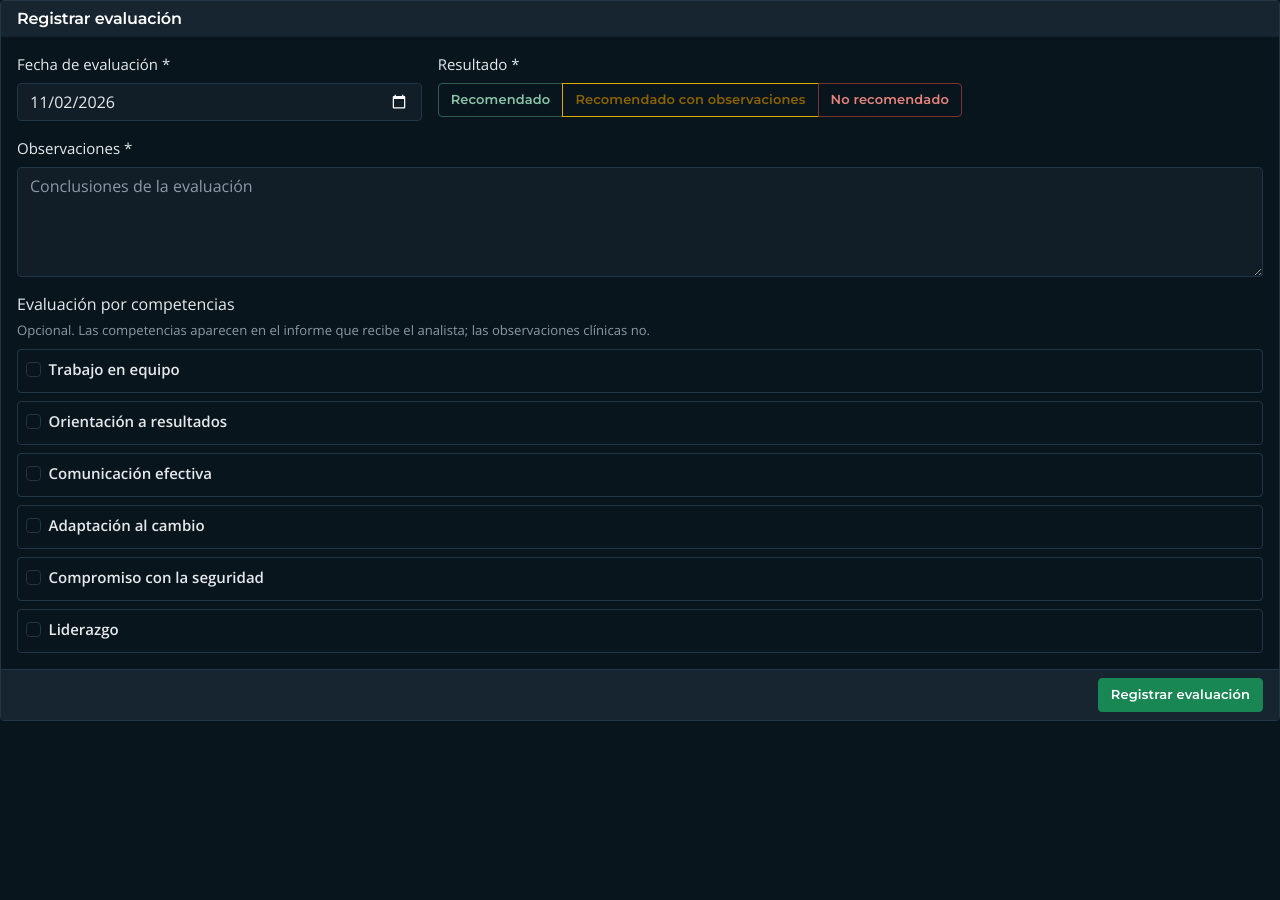
Scenario: FormularioEvaluacion › rechaza observaciones demasiado cortas
Click the radio button labelled "Recomendado" at [444, 90], box 438,83 -> 451,96
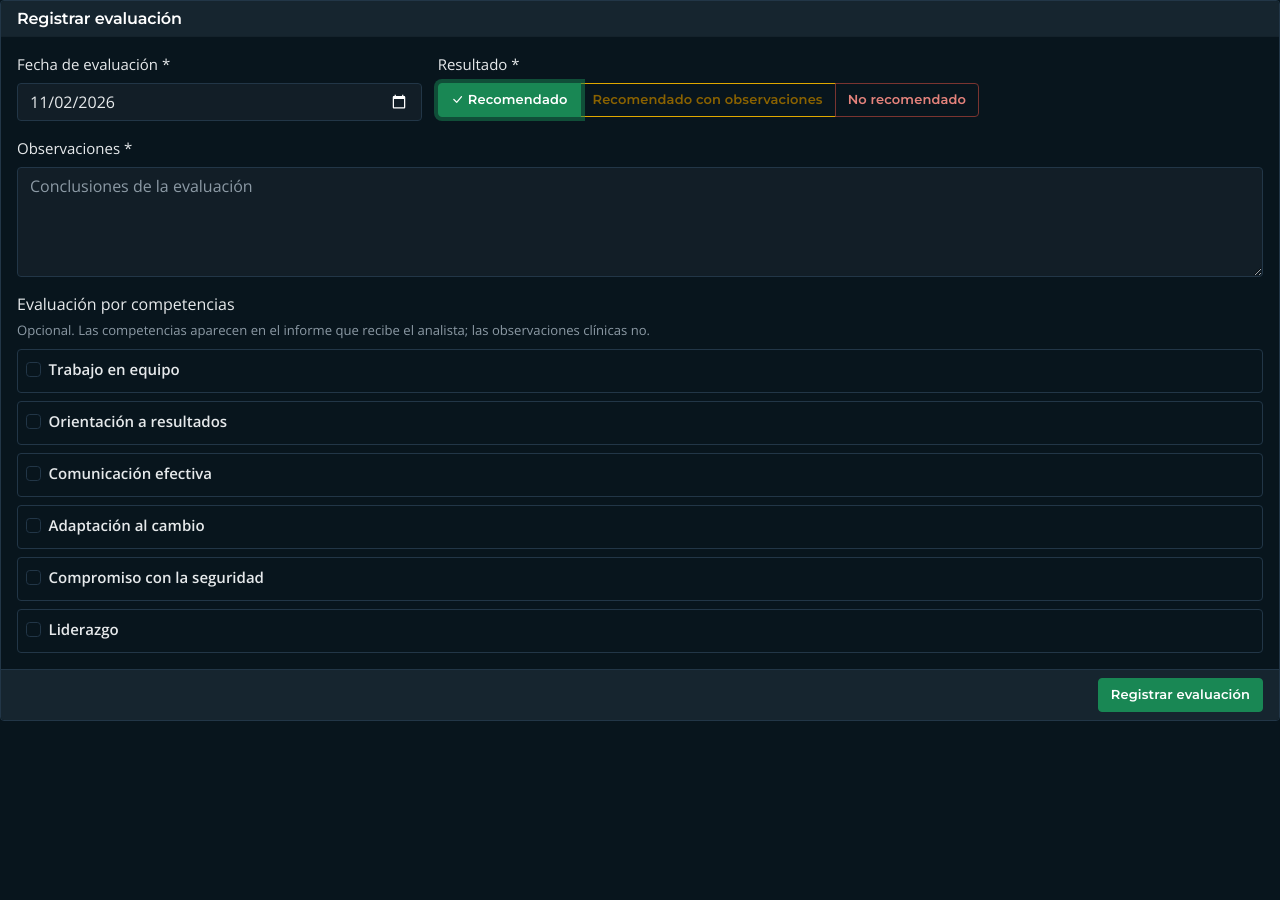
Type "ok" into the text box labelled "Observaciones *" at [640, 222], box 17,167 -> 1263,277
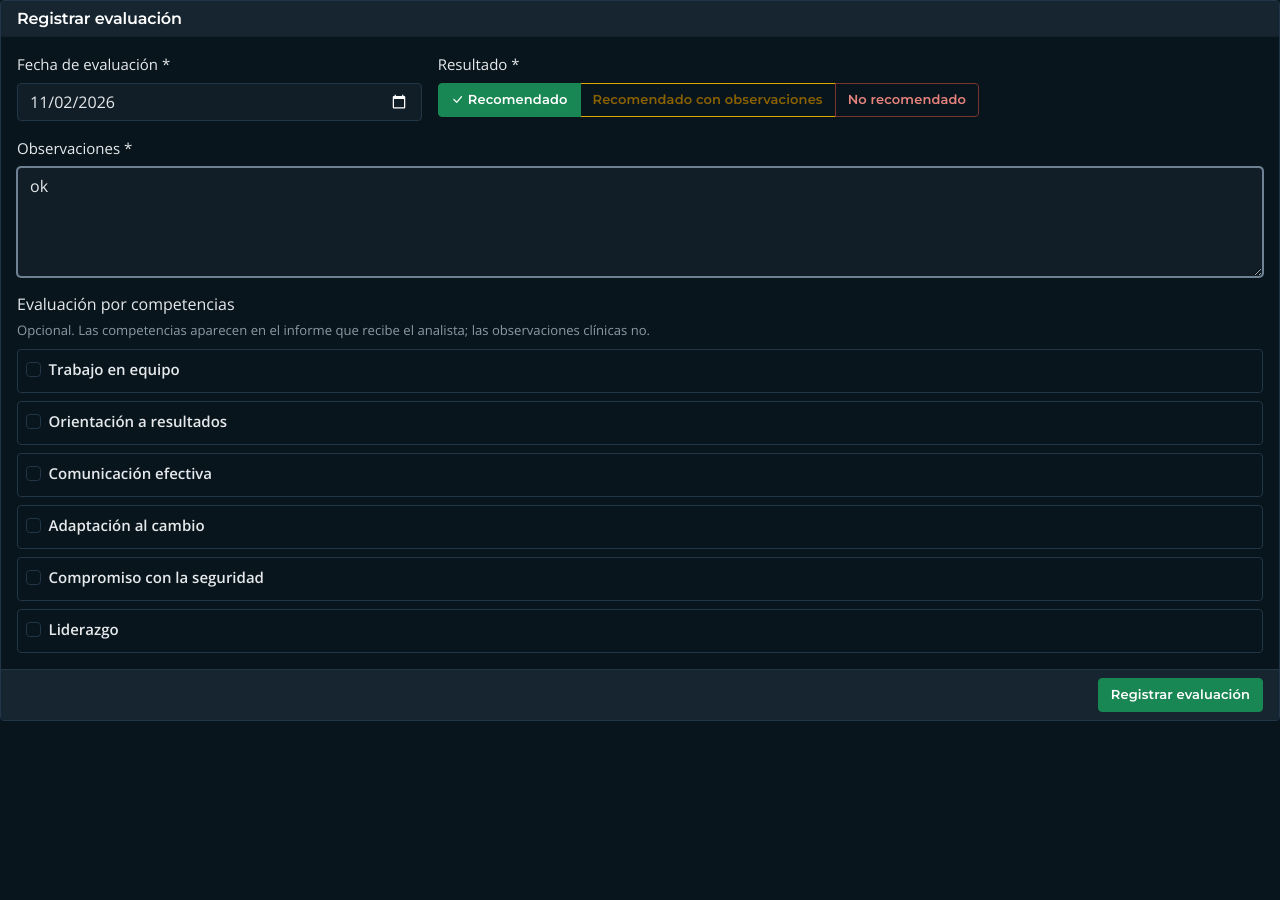
Click the button "Registrar evaluación" at [1180, 695], box 1098,678 -> 1263,712
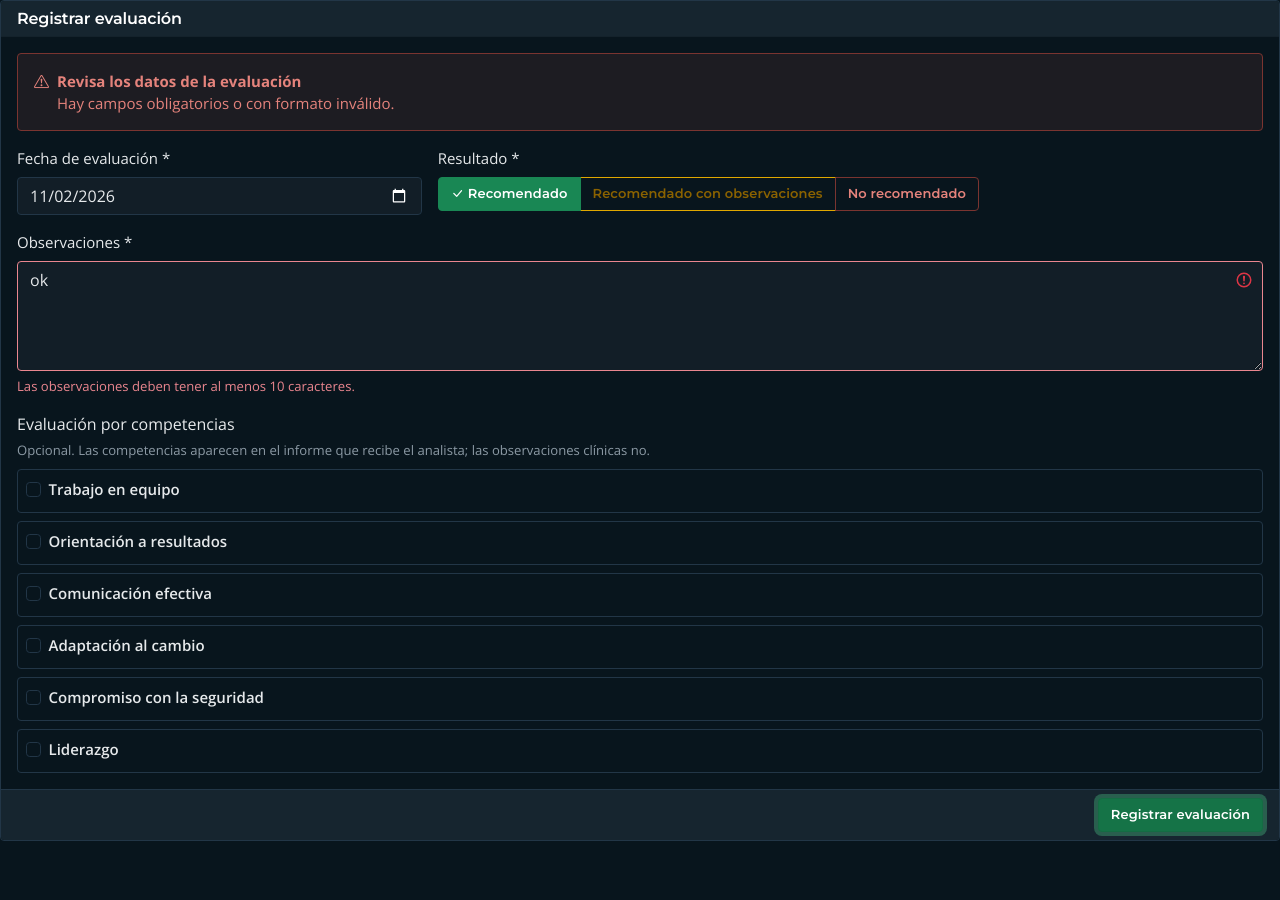
Result: the text "Las observaciones deben tener al menos 10 caracteres." is shown at 17,377 -> 355,395
